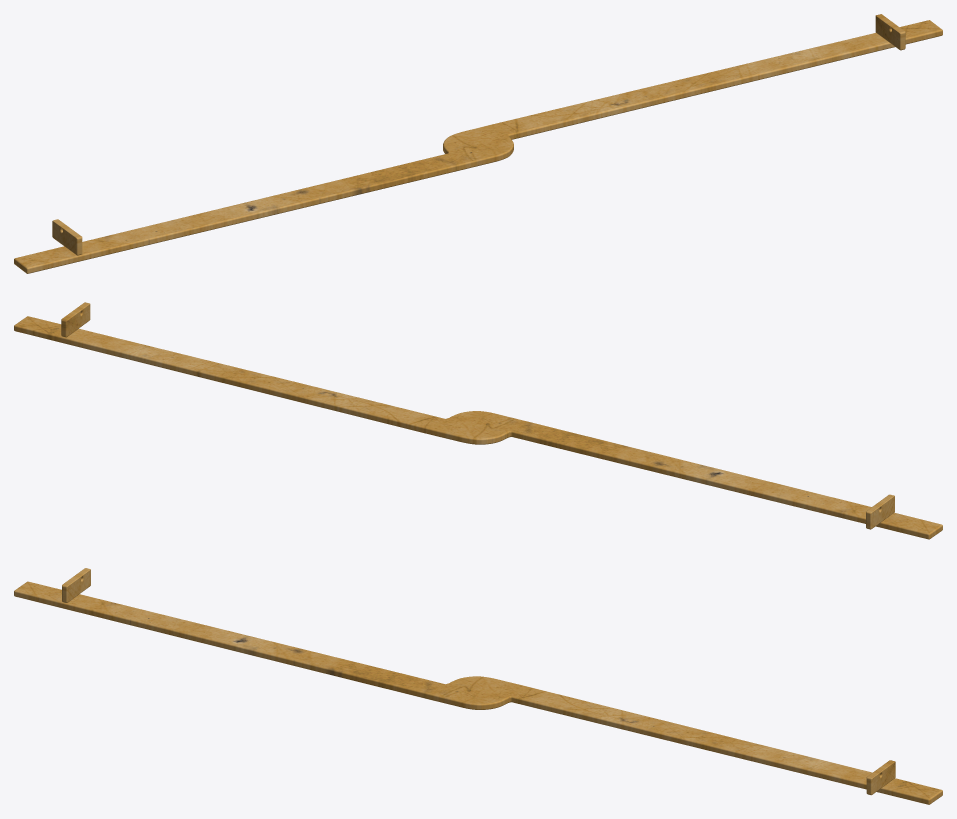
Rendered from alidada.glb.
The picture shows the model from 3 angles, top to bottom: view 1: azimuth 30°, elevation 25°; view 2: azimuth 150°, elevation 25°; view 3: azimuth 330°, elevation 25°; orthographic projection. The views are drawn at different scales.
Parts seen in each view (by area): view 1: alidada; view 2: alidada; view 3: alidada.
Part boxes in pixels (box(x1,y1,x2,y2)): alidada: box(14, 14, 942, 273); alidada: box(14, 302, 942, 539); alidada: box(14, 568, 942, 804).
Bounding box in the file's own units: 0.3075 × 0.00767 × 0.0193.
1 material, 1 textured.
